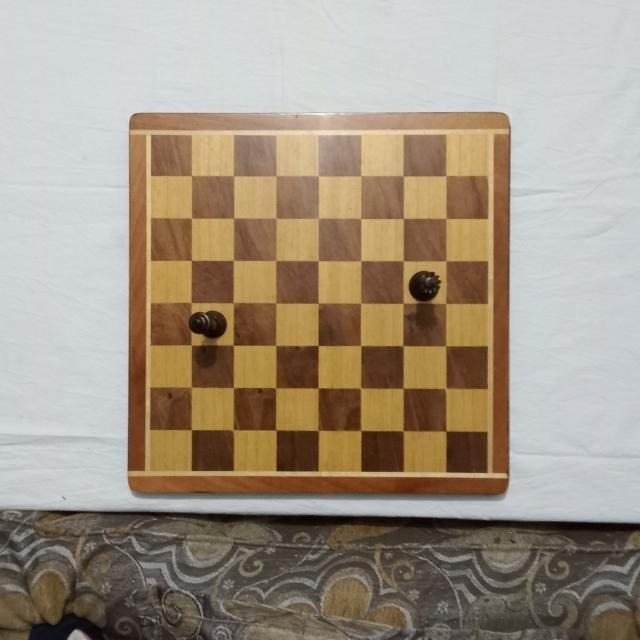black-king: (187, 306, 227, 338)
black-queen: (408, 268, 440, 301)
